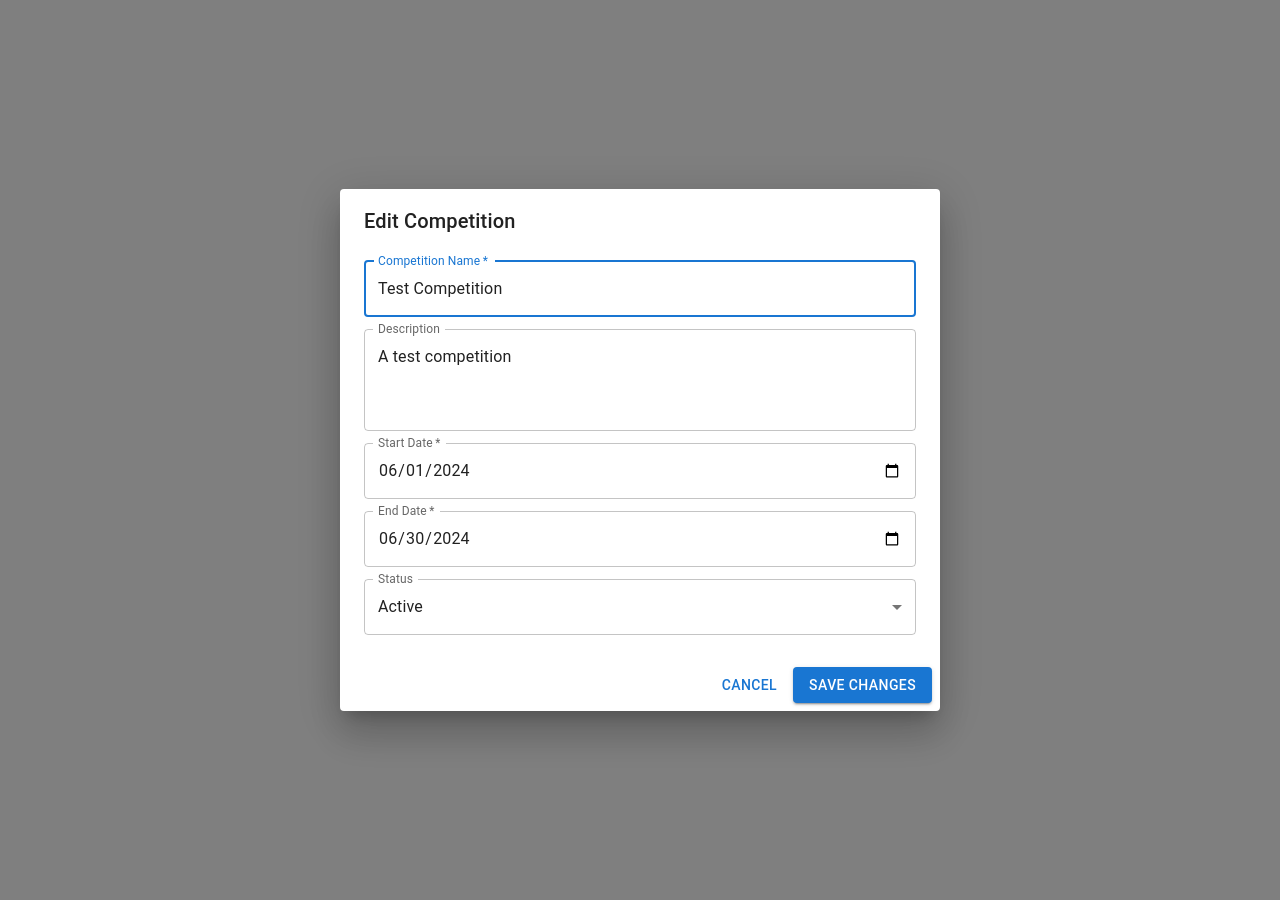
EditCompetitionModal › disables submit button when name is empty
expect the heading "Edit Competition" is shown: met, box [364, 209, 516, 233]
// Clear the name
Clear the field labelled "Competition Name *" at (640, 289), box [364, 261, 916, 317]
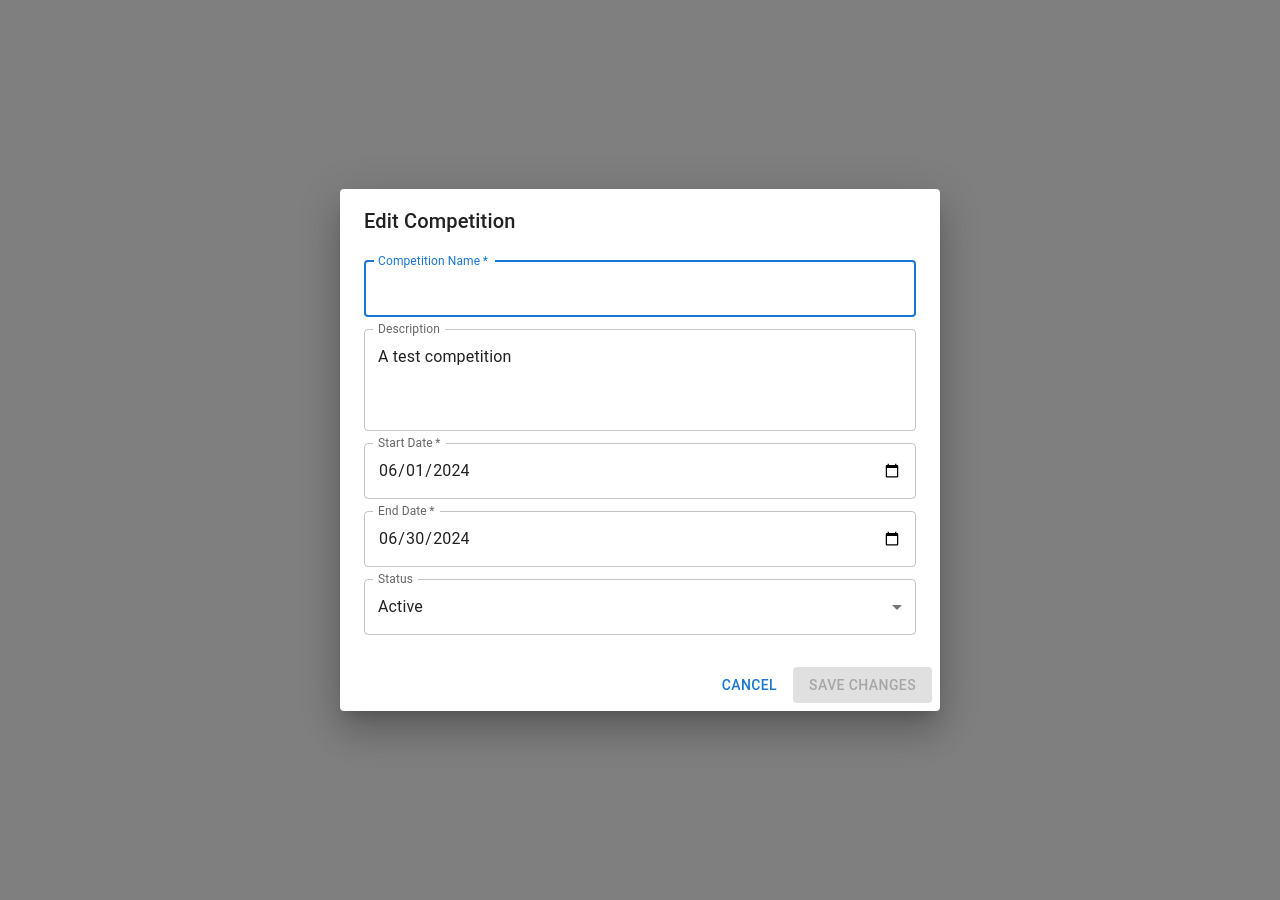
expect the button "Save Changes" is disabled: met, box [793, 667, 932, 703]
